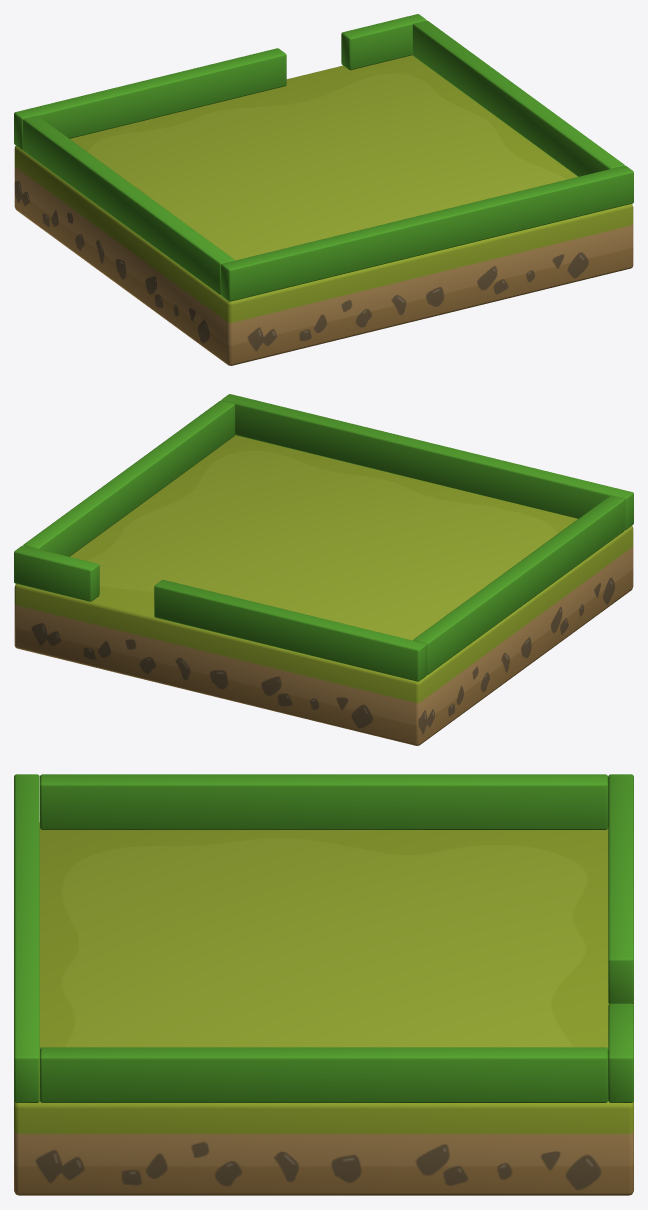
File: Floor1.gltf
3 views of the same model, one above another, from view 1: azimuth 30°, elevation 25°; view 2: azimuth 150°, elevation 25°; view 3: azimuth 270°, elevation 25° (orthographic). The views are drawn at different scales.
Parts seen in each view (by area): view 1: Cube; view 2: Cube; view 3: Cube.
Boxes of the visible parts, x1=… form: Cube: x1=14, y1=14, x2=633, y2=365; Cube: x1=14, y1=394, x2=633, y2=745; Cube: x1=14, y1=774, x2=633, y2=1195.
Size of the model in its own units: 13 by 3 by 12.
Materials: 1 (1 with a texture image).
